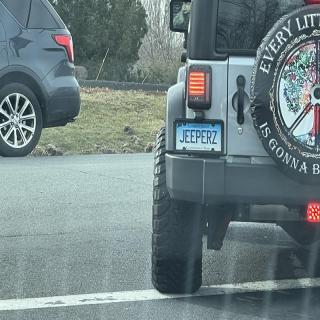license: (174, 119, 226, 156)
